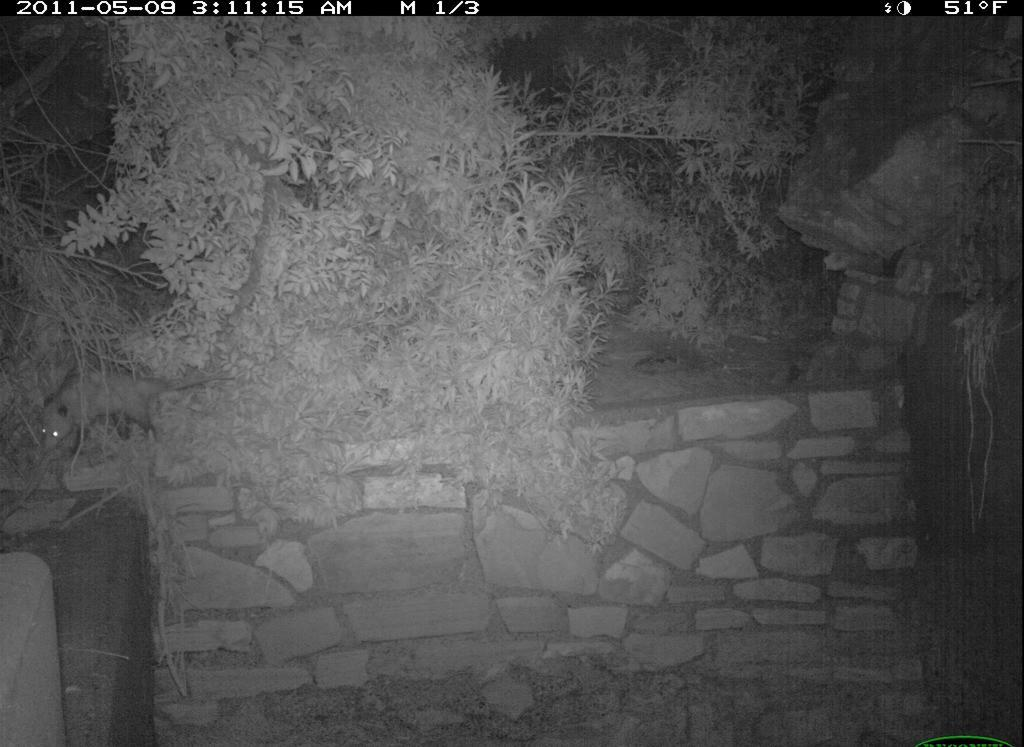opossum: (31, 355, 230, 457)
